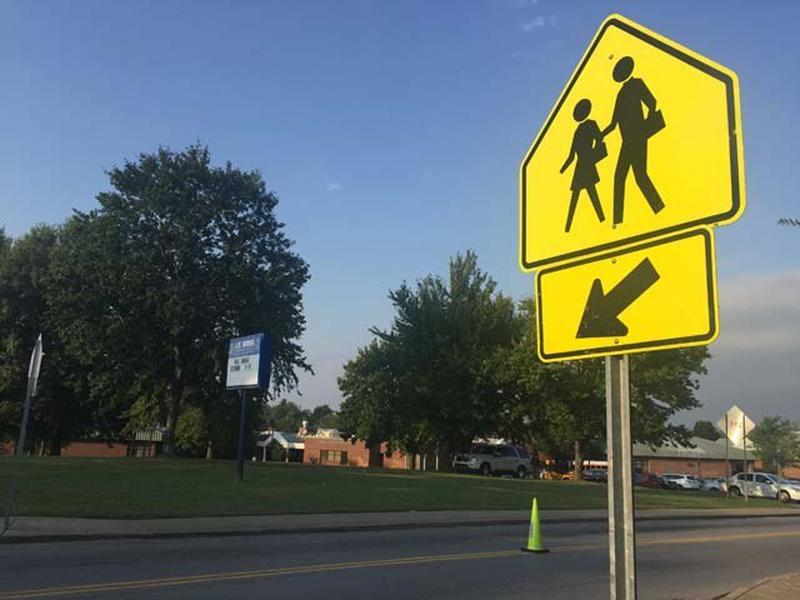slow: (495, 31, 753, 227)
